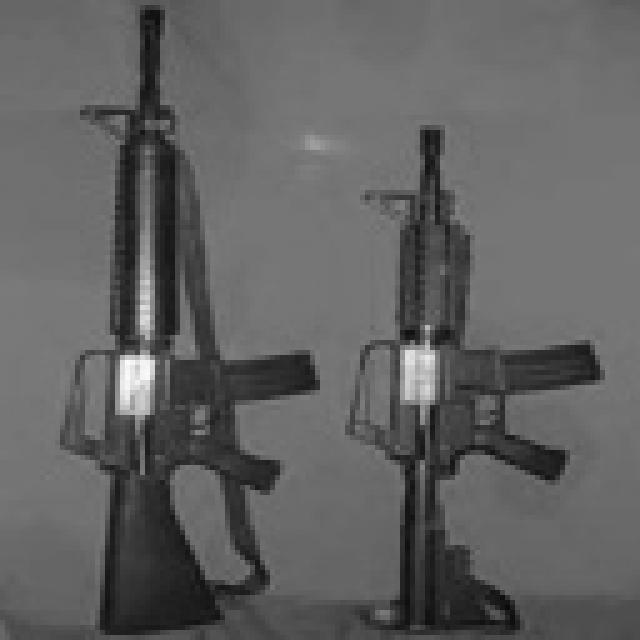Rifle: (0, 0, 332, 640), (305, 64, 635, 640)
